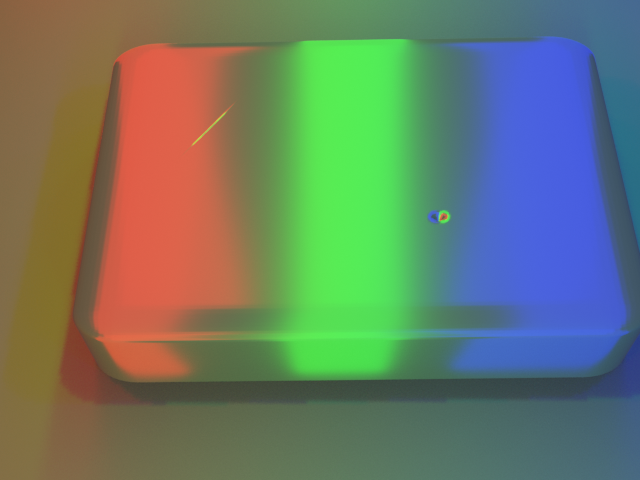dent: (428, 198, 475, 235)
scratch: (68, 32, 356, 210)
